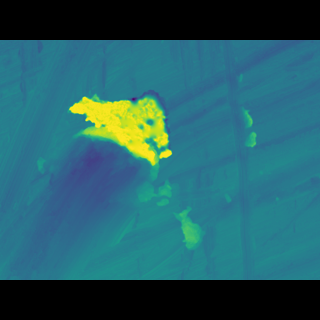Loch: (59, 101, 182, 174), (219, 69, 256, 250)
